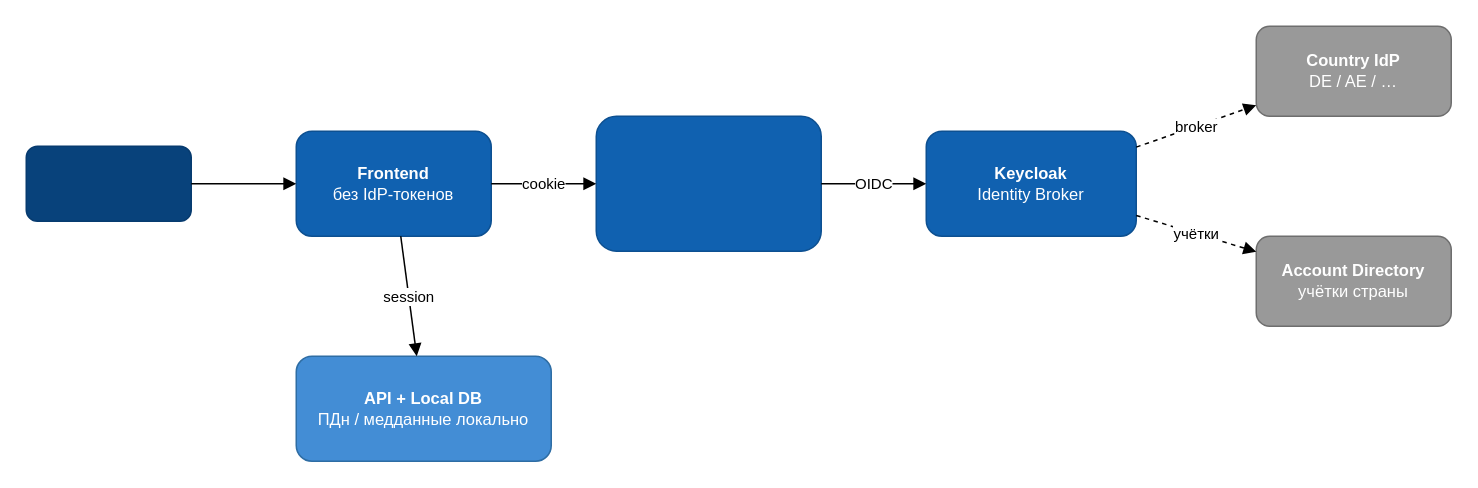
Image size: 1478x488. Some labels were removed from this diagram. The centre of each missing label's shape, as x and y in pixels:
"Auth BFF хранит IdP-токены → session cookie" goes at point 708,183.
"Пользователь" goes at point 108,183.
